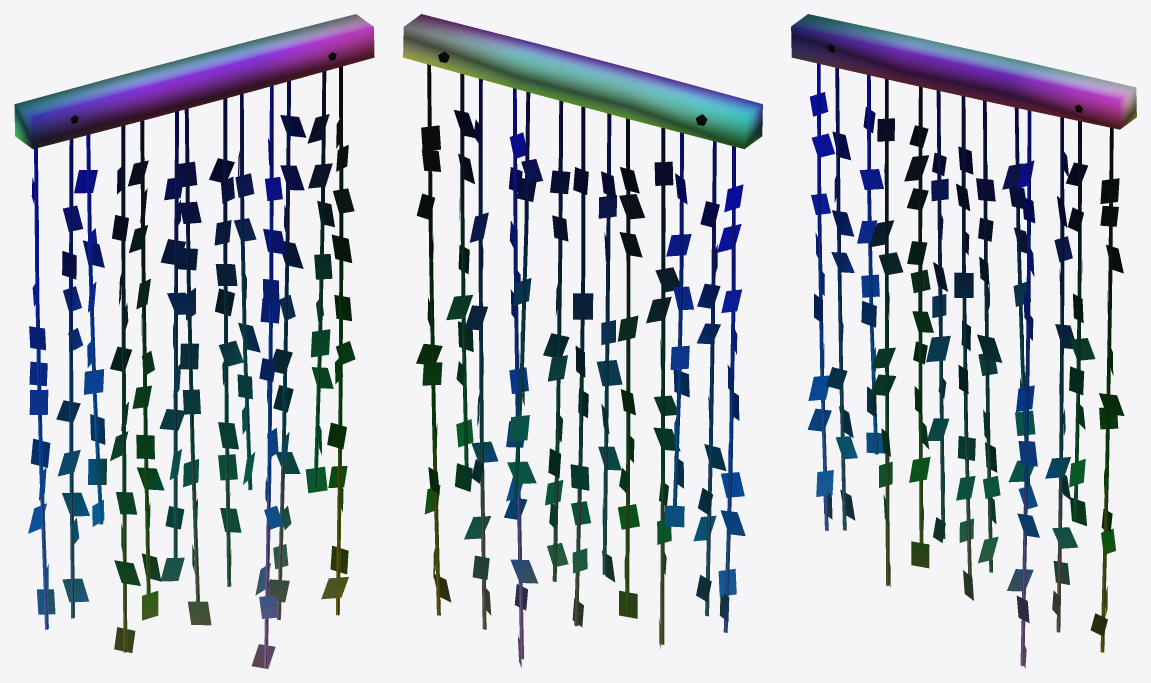
File: SM_Pit_TagCurtain.fbx
The picture shows the model from 3 angles, left to right: view 1: azimuth 30°, elevation 25°; view 2: azimuth 150°, elevation 25°; view 3: azimuth 330°, elevation 25°; orthographic projection. The views are drawn at different scales.
Parts seen in each view (by area): view 1: SM_Pit_TagCurtain; view 2: SM_Pit_TagCurtain; view 3: SM_Pit_TagCurtain.
Boxes of the visible parts, box(x1,y1,x2,y2) form: SM_Pit_TagCurtain: box(14, 14, 374, 668); SM_Pit_TagCurtain: box(403, 14, 762, 668); SM_Pit_TagCurtain: box(791, 14, 1136, 668).
Bounding box in the file's own units: 0.9562 × 1.66 × 0.128.
